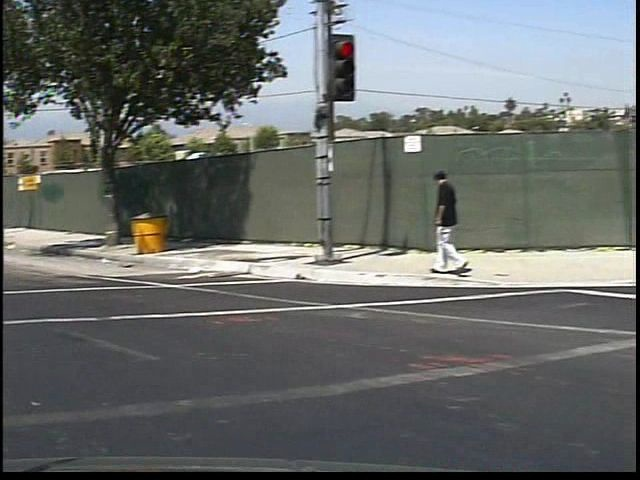person: (410, 157, 465, 286)
